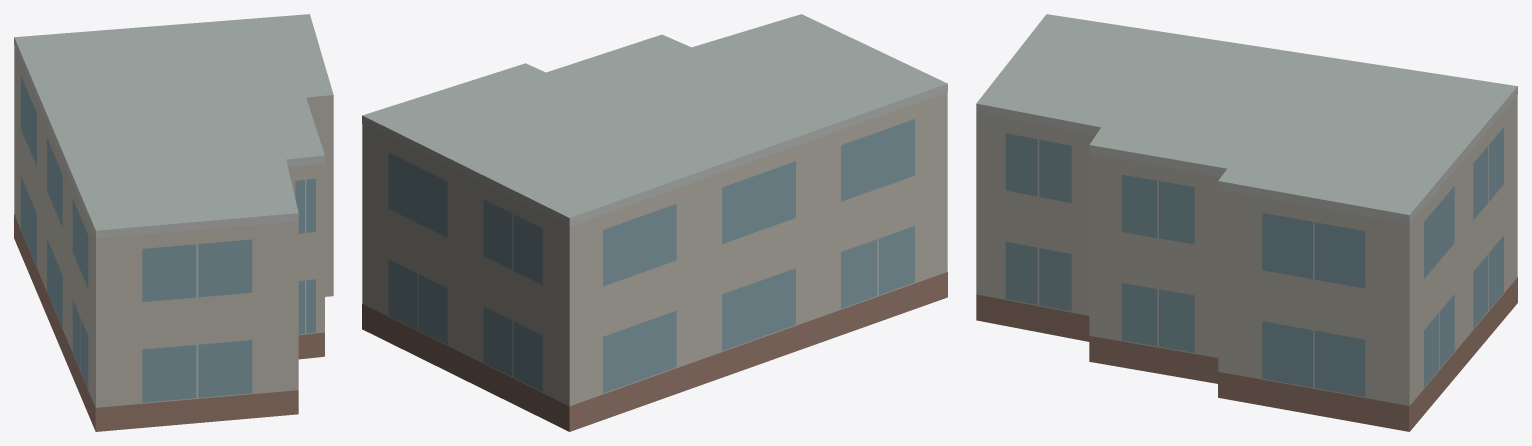
The model's file is survey-upis-32872170.glb.
The picture shows the model from 3 angles, left to right: view 1: azimuth 30°, elevation 25°; view 2: azimuth 150°, elevation 25°; view 3: azimuth 270°, elevation 25°; orthographic projection. The views are drawn at different scales.
Visible parts, largest first — view 1: survey-upis-32872170.tmp; view 2: survey-upis-32872170.tmp; view 3: survey-upis-32872170.tmp.
Boxes of the visible parts, x1=… form: survey-upis-32872170.tmp: x1=14, y1=14, x2=333, y2=431; survey-upis-32872170.tmp: x1=362, y1=14, x2=947, y2=431; survey-upis-32872170.tmp: x1=976, y1=14, x2=1517, y2=431.
Size of the model in its own units: 12.15 by 6.1 by 13.82.
